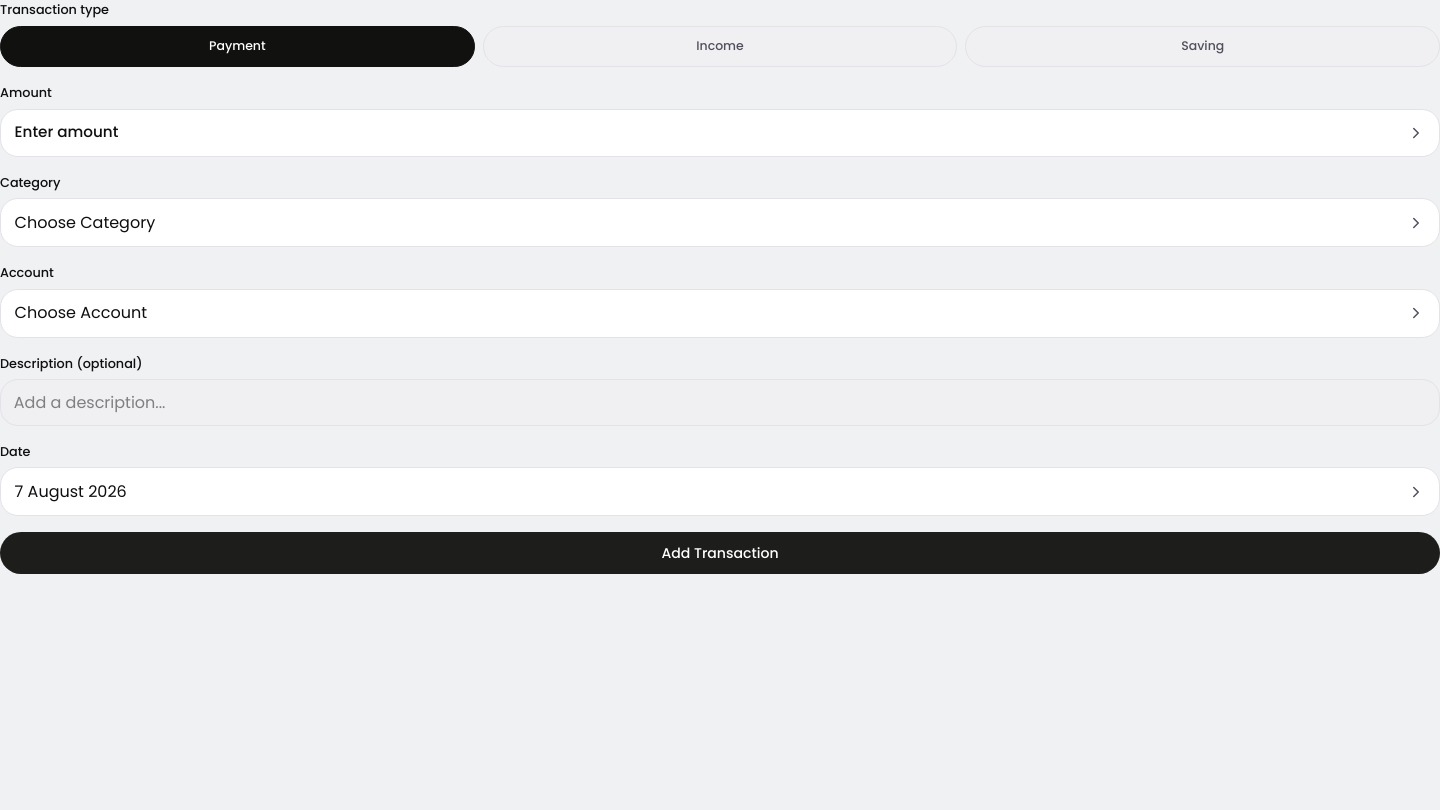
TransactionForm › opens the category curtain and selects an expense category
Click the button "Choose Category" at x=85, y=222, box x1=0 y1=198 x2=1439 y2=247
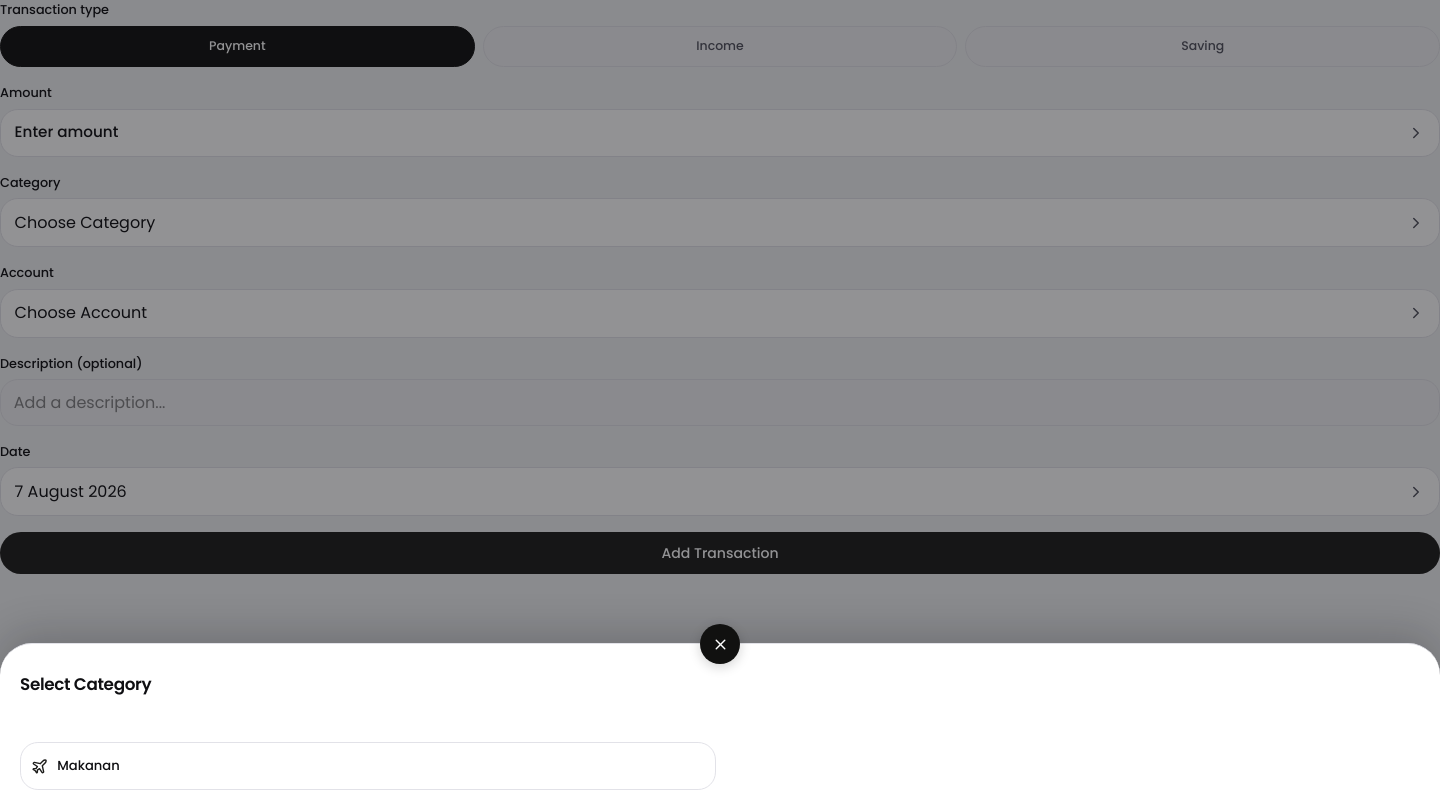
Click the button "Makanan" at x=88, y=766, box x1=20 y1=742 x2=716 y2=790
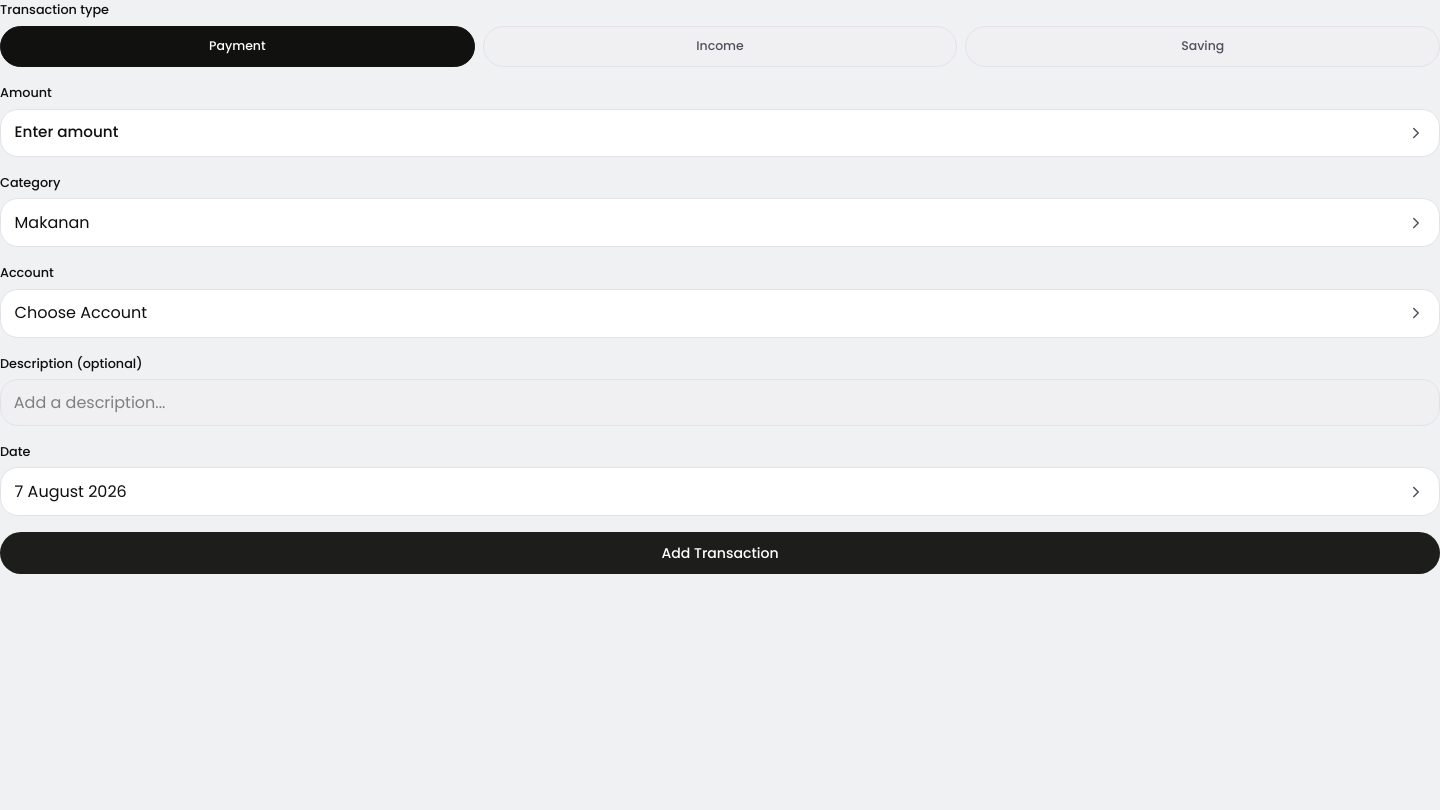
expect the element named "categoryId" holds "cat-1": met, box x1=0 y1=173 x2=1439 y2=247
expect the heading "Select Category" is gone: met
expect the text "Makanan" is shown: met, box x1=15 y1=211 x2=90 y2=235
